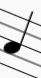A: (3, 4, 35, 77)
